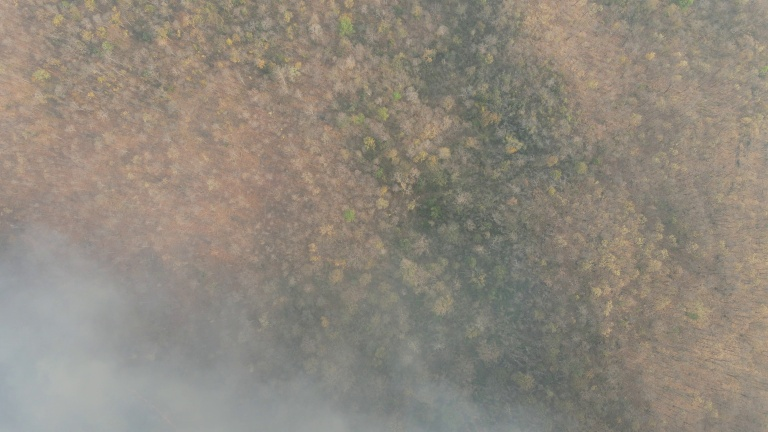fire: (145, 401, 181, 430)
smoke: (3, 234, 350, 432)
